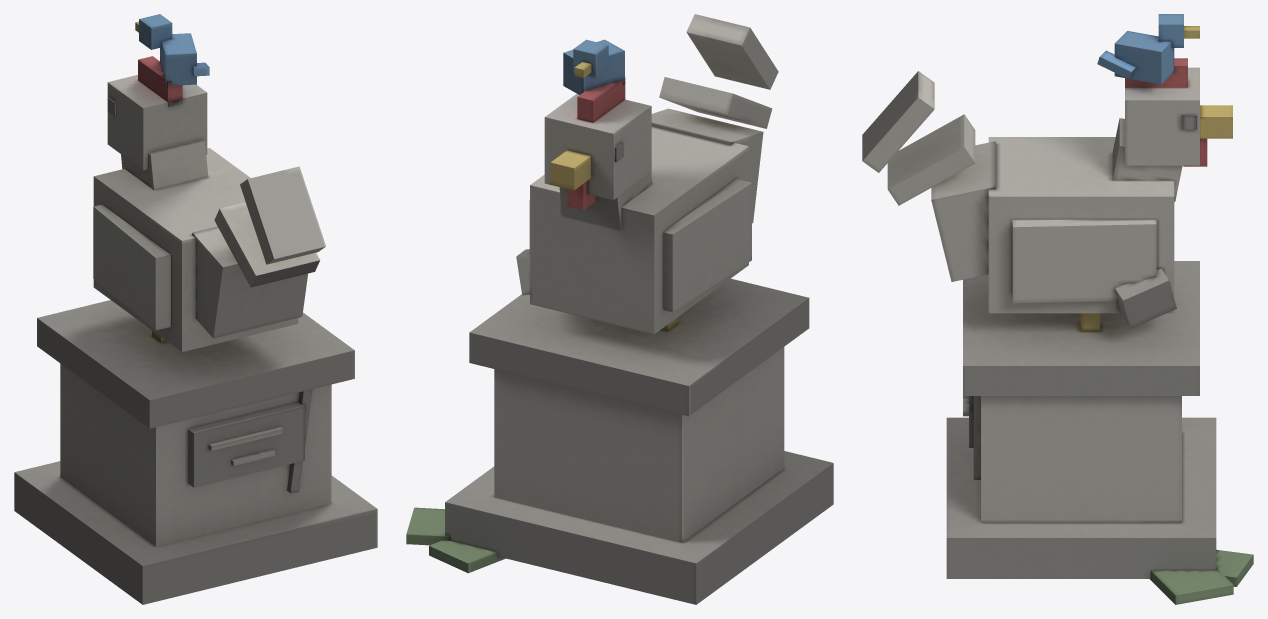
The model's file is chickenstatue.glb.
The picture shows the model from 3 angles, left to right: view 1: azimuth 30°, elevation 25°; view 2: azimuth 150°, elevation 25°; view 3: azimuth 270°, elevation 25°; orthographic projection. The views are drawn at different scales.
Parts seen in each view (by area): view 1: chickenstatue; view 2: chickenstatue; view 3: chickenstatue.
Boxes of the visible parts, x1,y1,x2,y2 form: chickenstatue: [14, 14, 377, 604]; chickenstatue: [406, 14, 833, 604]; chickenstatue: [862, 14, 1253, 604].
Size of the model in its own units: 2.29 by 3.72 by 2.61.
Materials: 6 (6 with a texture image).
